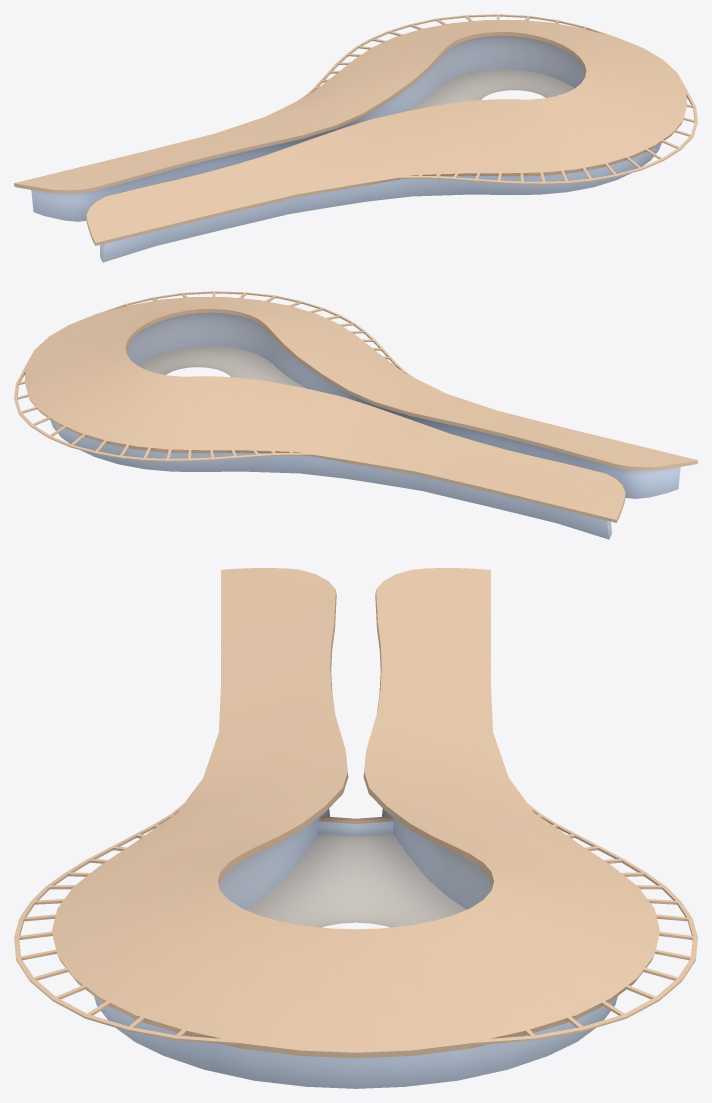
Rendered from kingabdulazizcontroltower1.glb.
The picture shows the model from 3 angles, top to bottom: view 1: azimuth 30°, elevation 25°; view 2: azimuth 150°, elevation 25°; view 3: azimuth 270°, elevation 25°; orthographic projection. The views are drawn at different scales.
Visible parts, largest first — view 1: kingabdulazizcontroltower1; view 2: kingabdulazizcontroltower1; view 3: kingabdulazizcontroltower1.
Part boxes in pixels (bbox=[...]): kingabdulazizcontroltower1: bbox=[14, 14, 697, 262]; kingabdulazizcontroltower1: bbox=[14, 291, 697, 539]; kingabdulazizcontroltower1: bbox=[14, 568, 697, 1088].
Bounding box in the file's own units: 167 × 16.51 × 98.25.
Materials: 1 (1 with a texture image).
